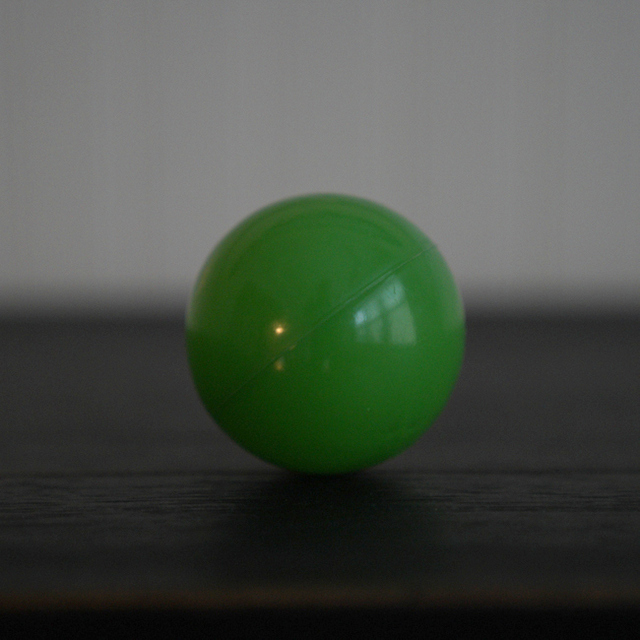Ball: (184, 191, 466, 470)
